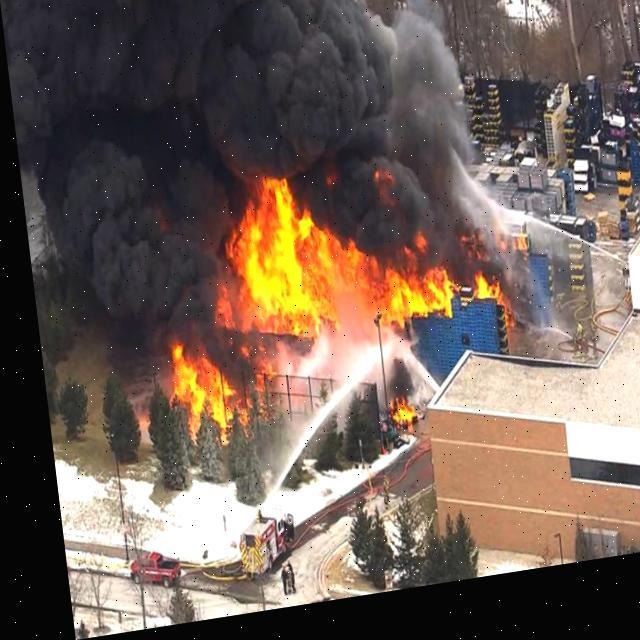Fire: (184, 140, 503, 397), (144, 324, 247, 460)
